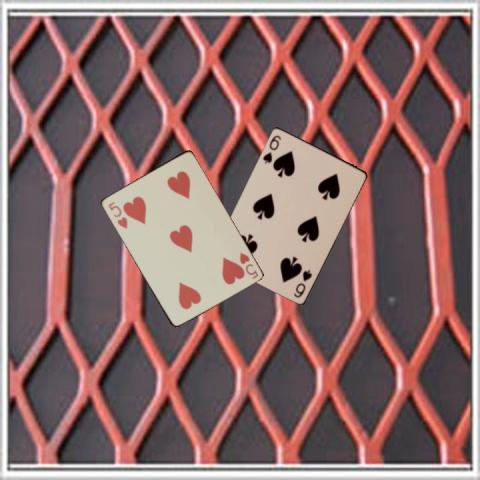5h: (105, 199, 129, 230), (236, 249, 259, 280)
6s: (259, 132, 283, 165), (290, 266, 313, 298)
